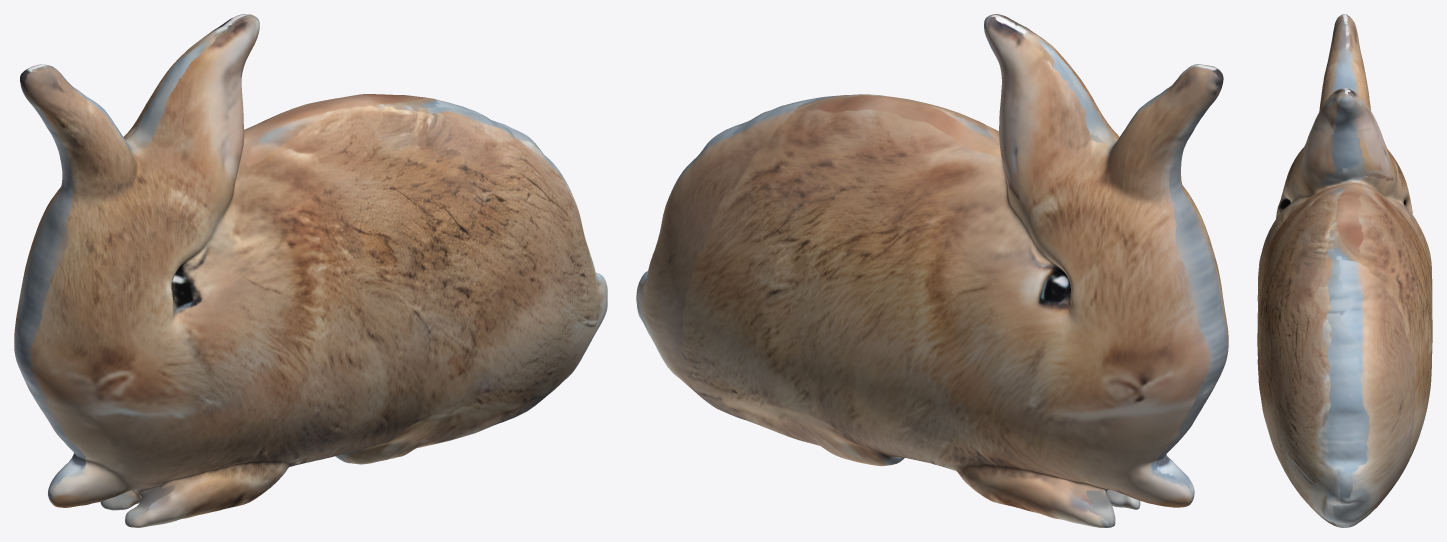
Rendered from bebe.glb.
3 renders of one model, left to right at view 1: azimuth 30°, elevation 25°; view 2: azimuth 150°, elevation 25°; view 3: azimuth 270°, elevation 25°, orthographic. The views are drawn at different scales.
Visible parts, largest first — view 1: mesh; view 2: mesh; view 3: mesh.
Part boxes in pixels (x1,y1,x2,y2): mesh: (14,14,607,527); mesh: (636,14,1228,527); mesh: (1257,14,1432,527).
Size of the model in its own units: 1.6 by 1.24 by 0.5652.
Materials: 1 (1 with a texture image).
